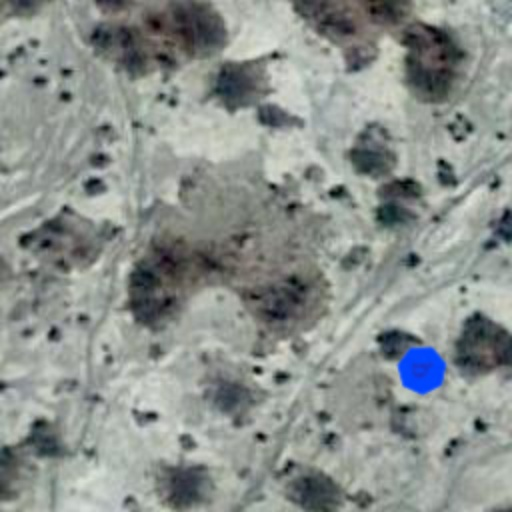heptagon: (394, 342, 450, 398)
